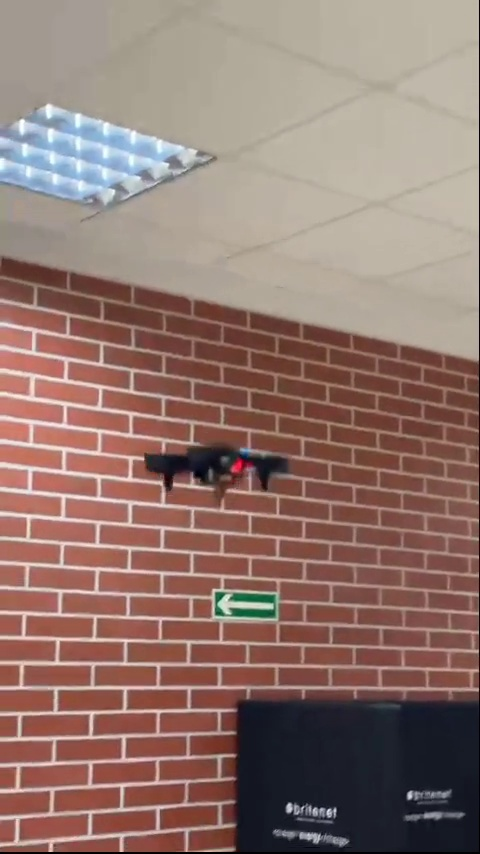drone: (147, 440, 292, 500)
